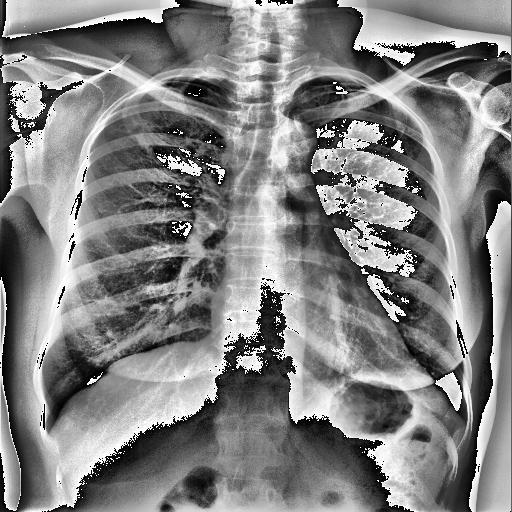13- Pulmonary fibrosis: (108, 114, 170, 170), (307, 84, 350, 138), (116, 114, 162, 148), (104, 118, 148, 146), (328, 92, 350, 120)
